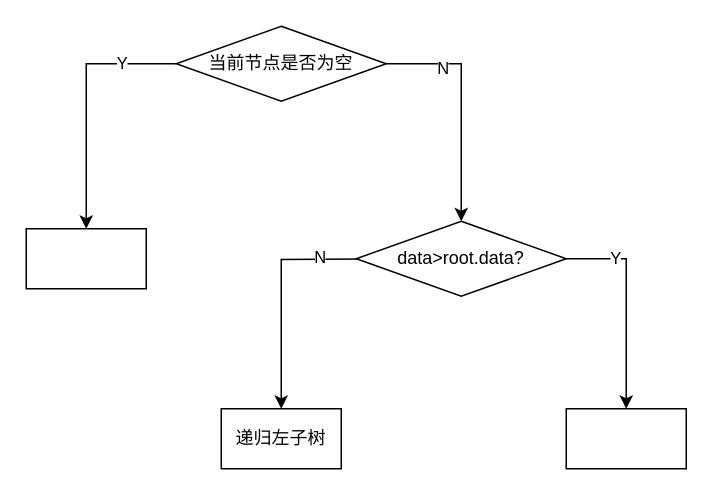
Image size: 713x495. Some labels were removed from this diagram. Each missing label, with the centre of its shape:
"插入" belongs at point (85, 258).
"递归右子树" belongs at point (625, 438).
